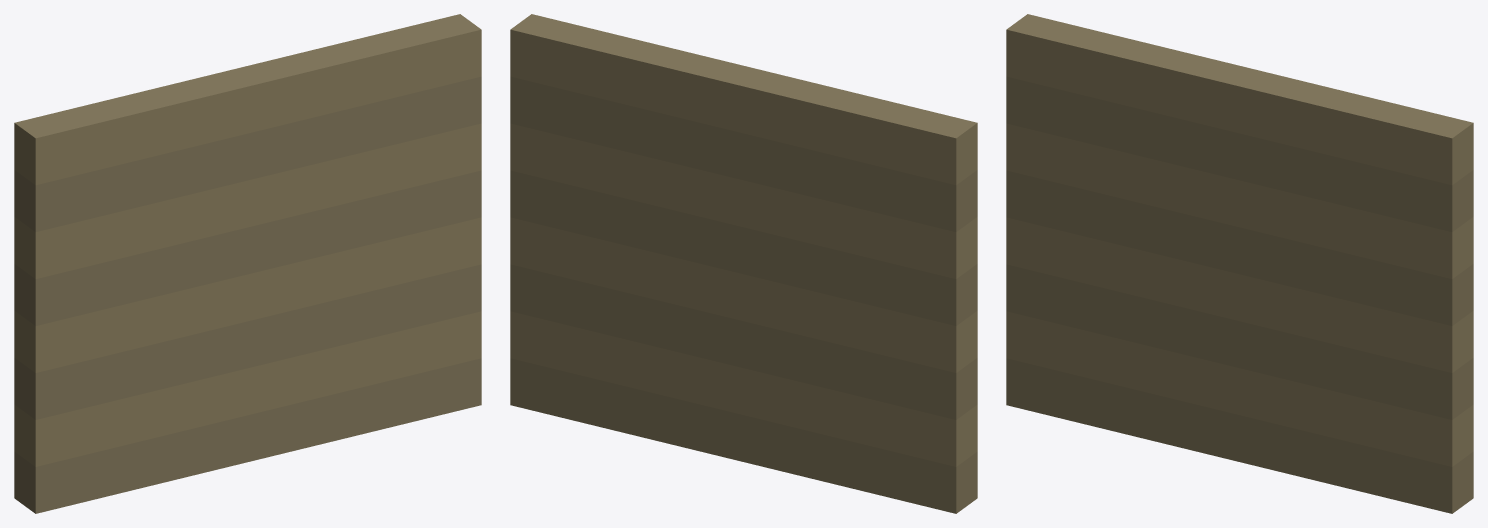
Rendered from GarageDoorGeo.fbx.
3 views of the same model, side by side, from view 1: azimuth 30°, elevation 25°; view 2: azimuth 150°, elevation 25°; view 3: azimuth 330°, elevation 25° (orthographic).
Visible parts, largest first — view 1: GarageDoorGeo; view 2: GarageDoorGeo; view 3: GarageDoorGeo.
Boxes of the visible parts, x1=… form: GarageDoorGeo: x1=14, y1=14, x2=481, y2=513; GarageDoorGeo: x1=510, y1=14, x2=977, y2=513; GarageDoorGeo: x1=1006, y1=14, x2=1473, y2=513.
Bounding box in the file's own units: 526 × 423 × 43.52.
